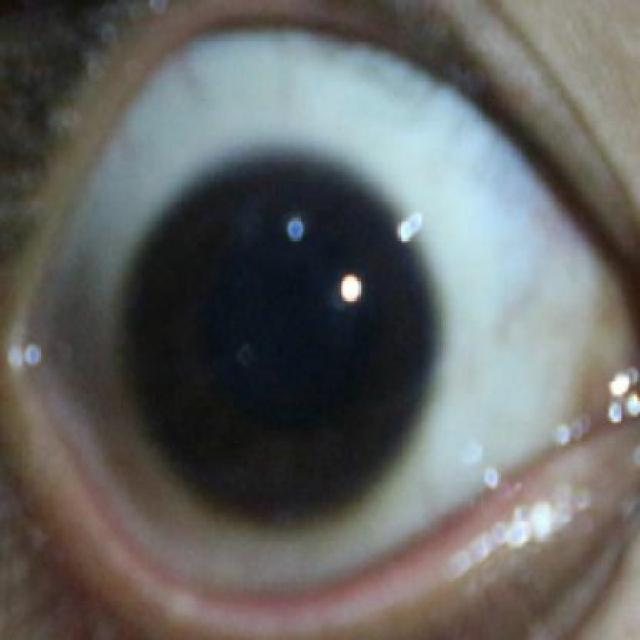Normal: (114, 154, 435, 533)
